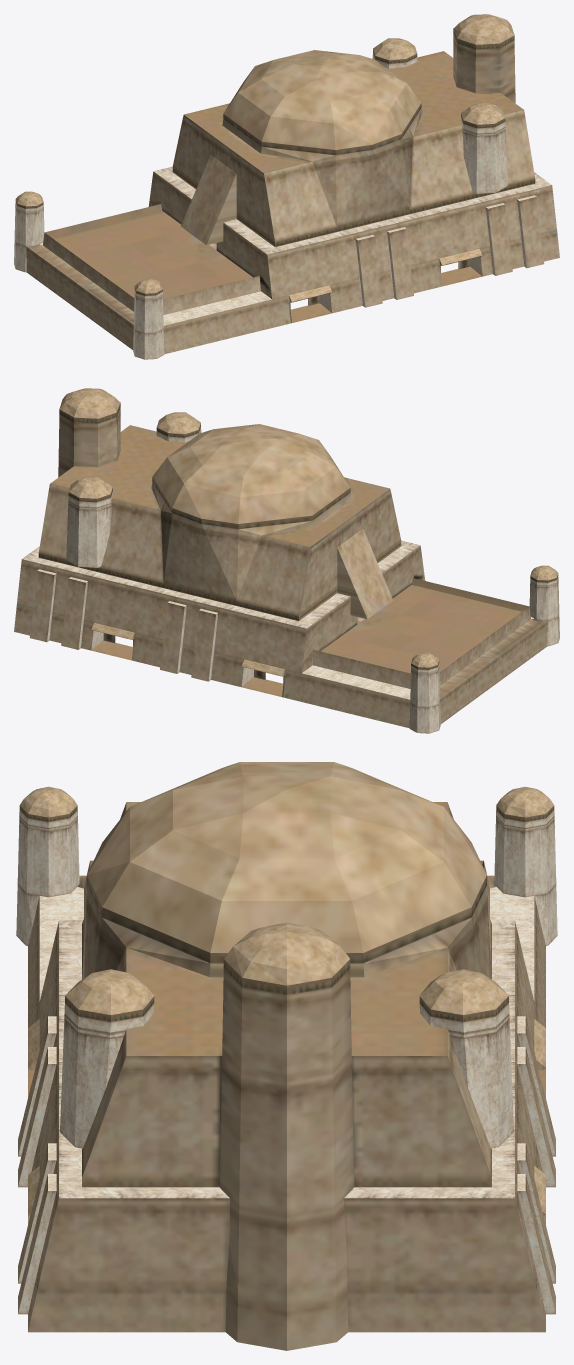
The model's file is mun_tato_hospital_s01_r0_mesh_l2.fbx.
3 views of the same model, one above another, from view 1: azimuth 30°, elevation 25°; view 2: azimuth 150°, elevation 25°; view 3: azimuth 270°, elevation 25° (orthographic). The views are drawn at different scales.
Visible parts, largest first — view 1: mesh_node; view 2: mesh_node; view 3: mesh_node.
Part boxes in pixels (x1,y1,x2,y2): mesh_node: (14, 14, 559, 359); mesh_node: (14, 388, 559, 733); mesh_node: (16, 762, 557, 1350).
Size of the model in its own units: 97.9 by 41.44 by 52.24.
